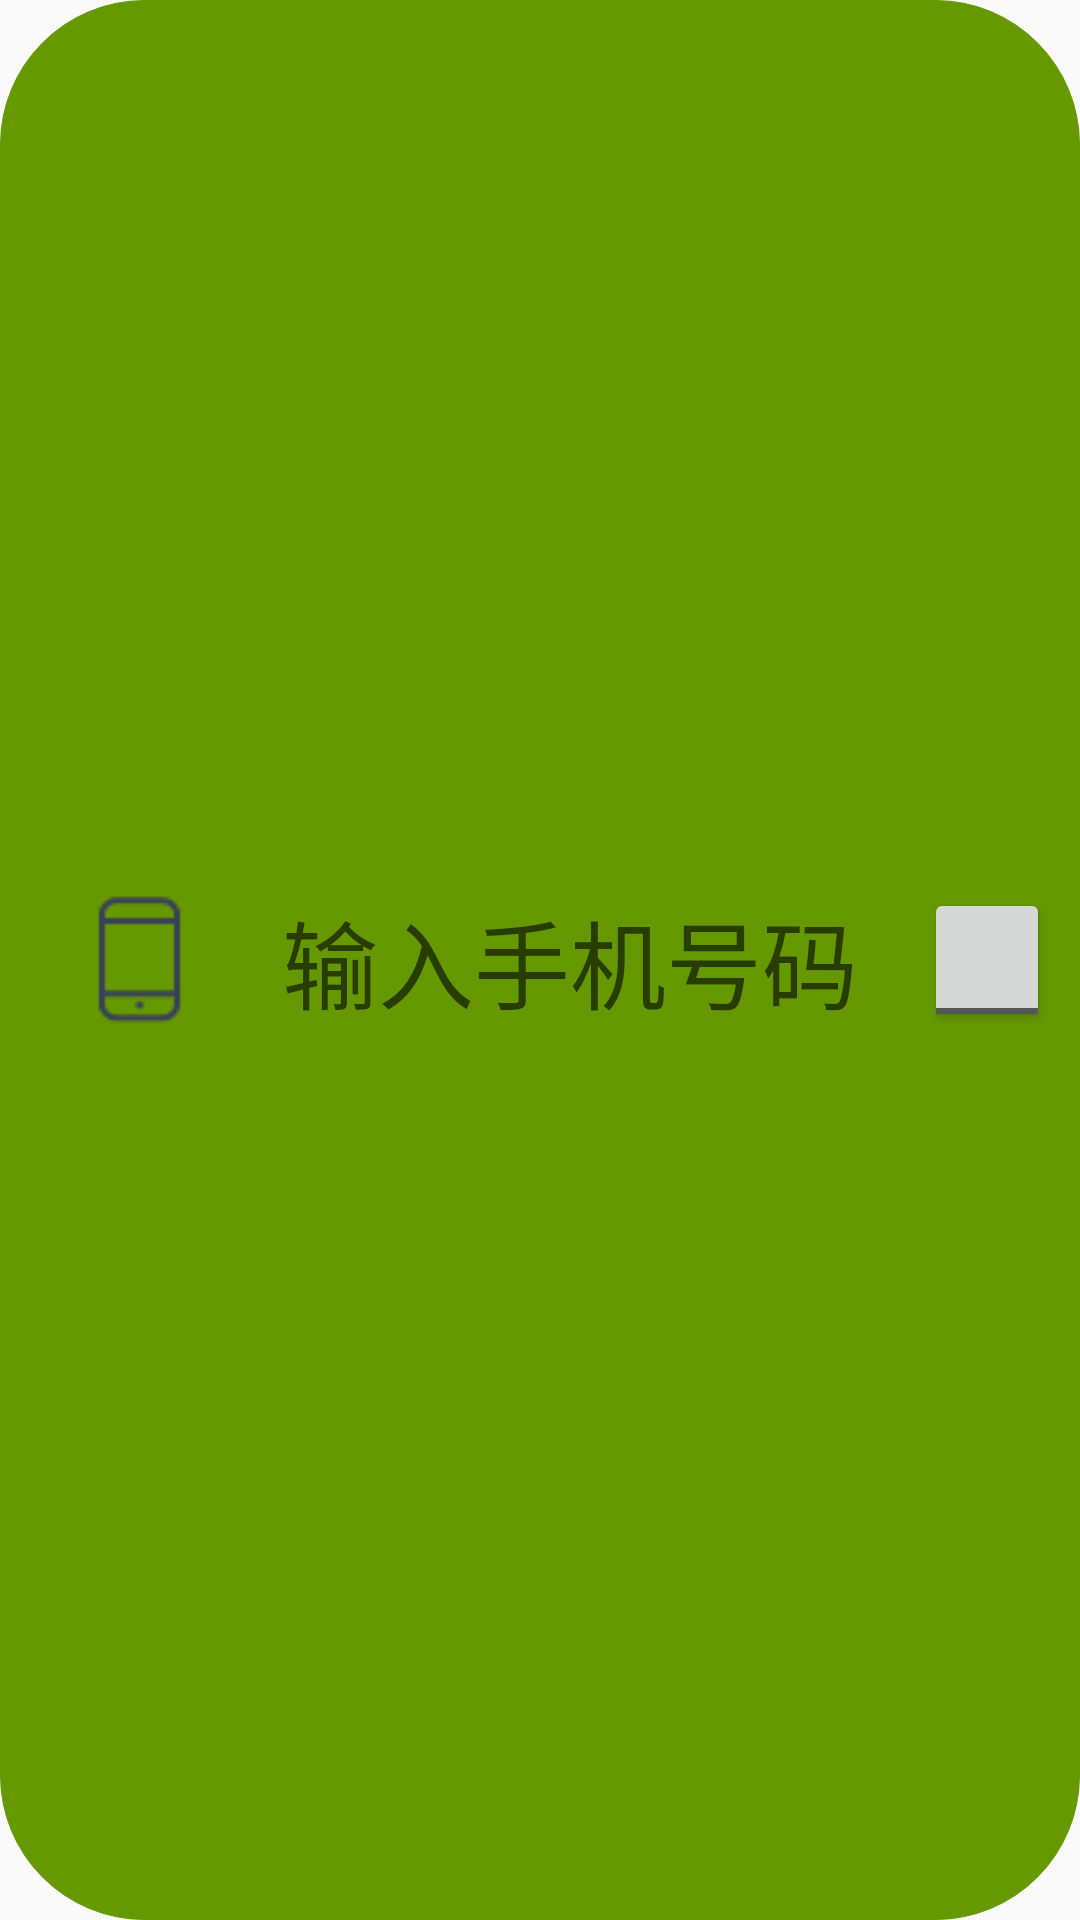

Screen size 1080px×1920px. Icon name, then its center in pixels as point (x, y):
general phone: point (139, 959)
